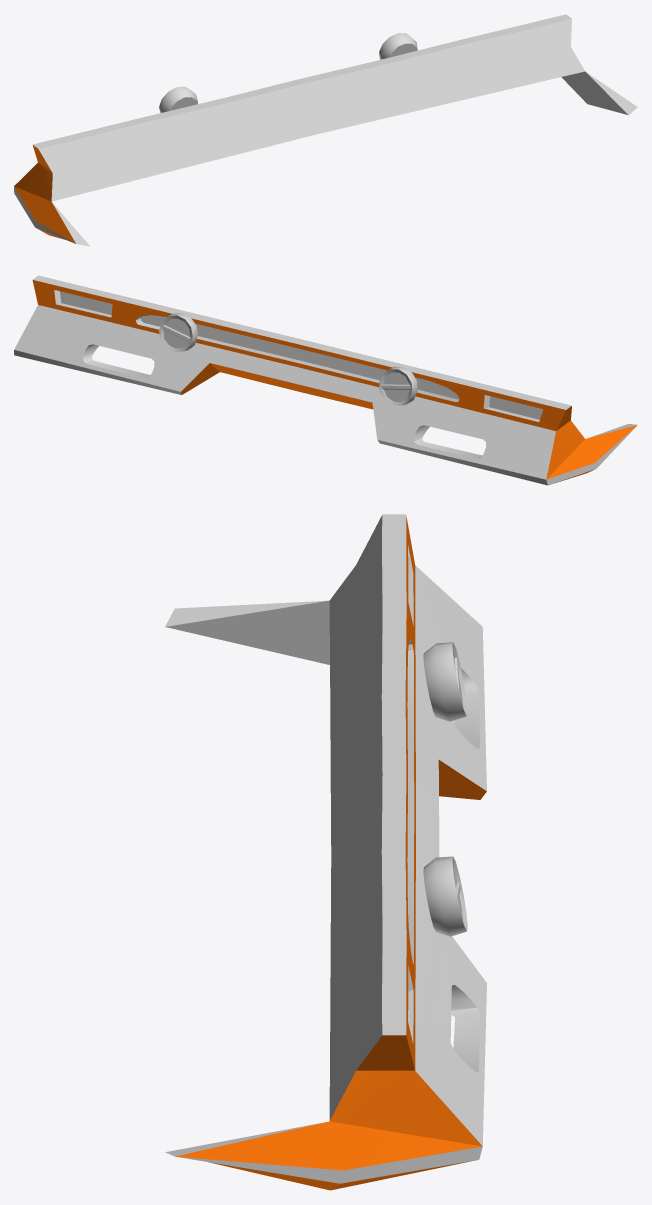
The model's file is Muscle_2_Bumper_F_3.fbx.
3 renders of one model, top to bottom at view 1: azimuth 30°, elevation 25°; view 2: azimuth 150°, elevation 25°; view 3: azimuth 270°, elevation 25°, orthographic. The views are drawn at different scales.
Parts seen in each view (by area): view 1: Muscle_2_Bumper_F_3; view 2: Muscle_2_Bumper_F_3; view 3: Muscle_2_Bumper_F_3.
Boxes of the visible parts, bbox=[...] form: Muscle_2_Bumper_F_3: bbox=[14, 14, 637, 246]; Muscle_2_Bumper_F_3: bbox=[14, 275, 637, 485]; Muscle_2_Bumper_F_3: bbox=[165, 514, 486, 1190].
Size of the model in its own units: 158 by 23.47 by 39.18.
